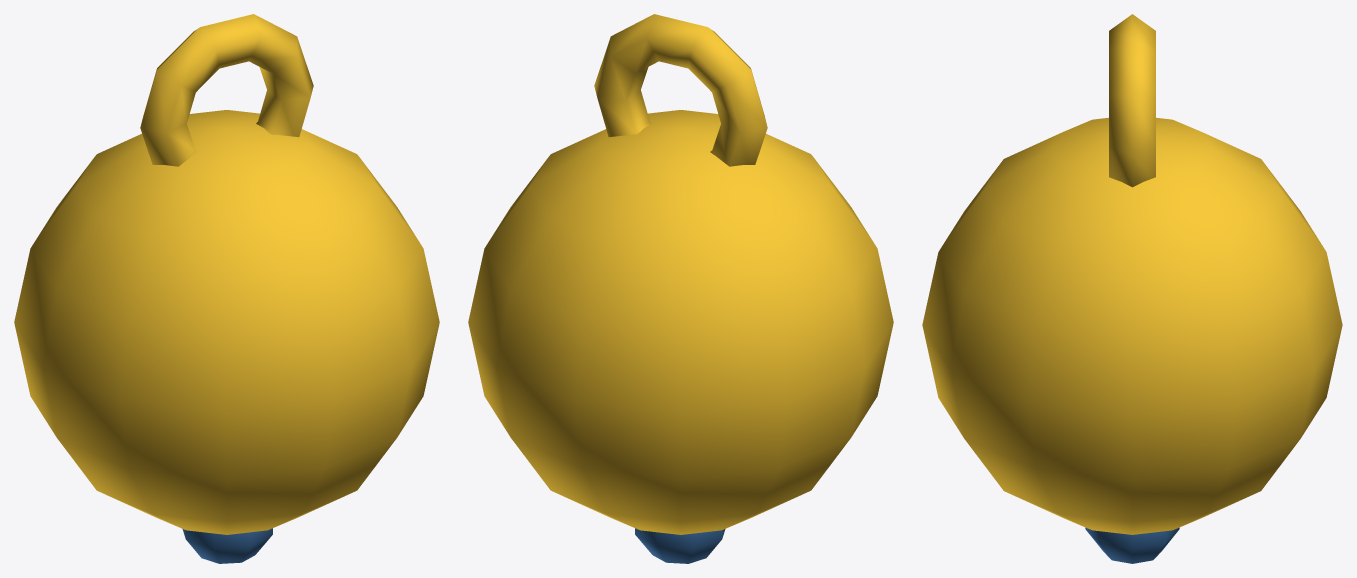
Rendered from bell.glb.
3 renders of one model, left to right at view 1: azimuth 30°, elevation 25°; view 2: azimuth 150°, elevation 25°; view 3: azimuth 270°, elevation 25°, orthographic.
Parts seen in each view (by area): view 1: bell_bell; view 2: bell_bell; view 3: bell_bell.
Boxes of the visible parts, <box> form: bell_bell: <box>14,14,439,563</box>; bell_bell: <box>468,14,893,563</box>; bell_bell: <box>922,14,1342,563</box>.
Size of the model in its own units: 0.068 by 0.0952 by 0.068.
